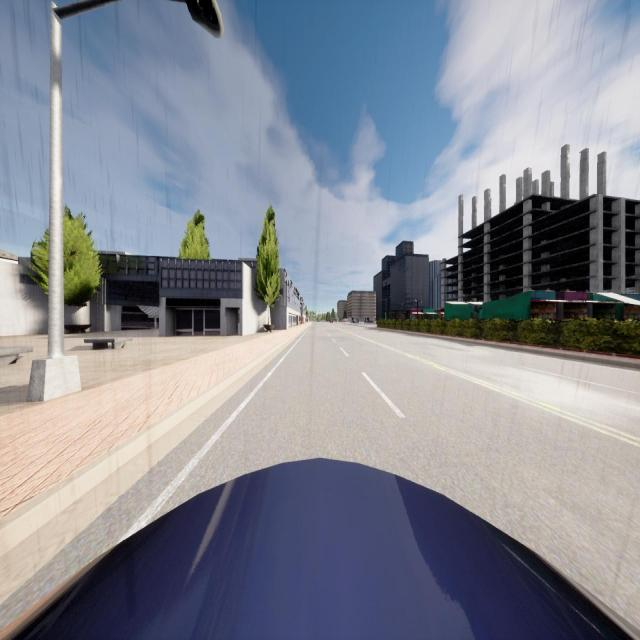Vehicle: (0, 458, 640, 640), (365, 319, 374, 324), (350, 319, 360, 323), (330, 320, 333, 324)
